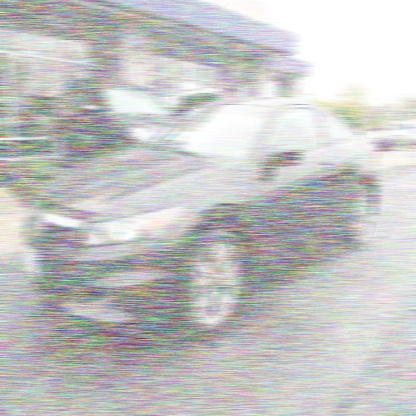Vehicle: (24, 96, 378, 339)
